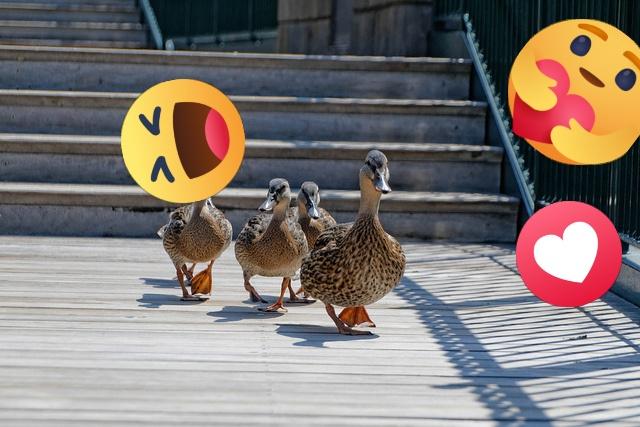care: (508, 19, 640, 165)
haha: (121, 79, 245, 203)
love: (516, 201, 622, 307)
